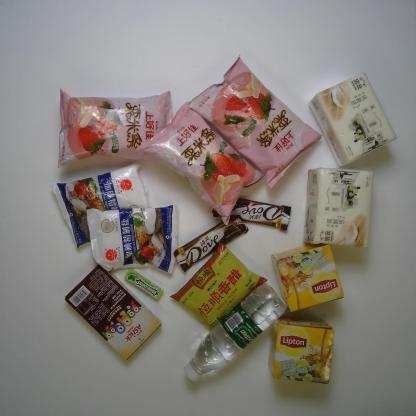Chocolate: (171, 210, 255, 274), (208, 188, 292, 233)
Dessert: (62, 260, 165, 363)
Drink: (180, 280, 289, 385)
Gum: (120, 264, 164, 302)
Instant Drink: (270, 242, 346, 314), (266, 312, 338, 385)
Puffed Food: (182, 52, 325, 190), (135, 99, 264, 225), (56, 84, 182, 168)
Seasoner: (47, 159, 160, 250), (169, 238, 268, 338), (84, 200, 182, 279)
Tissue: (308, 69, 399, 173), (302, 166, 378, 250)
